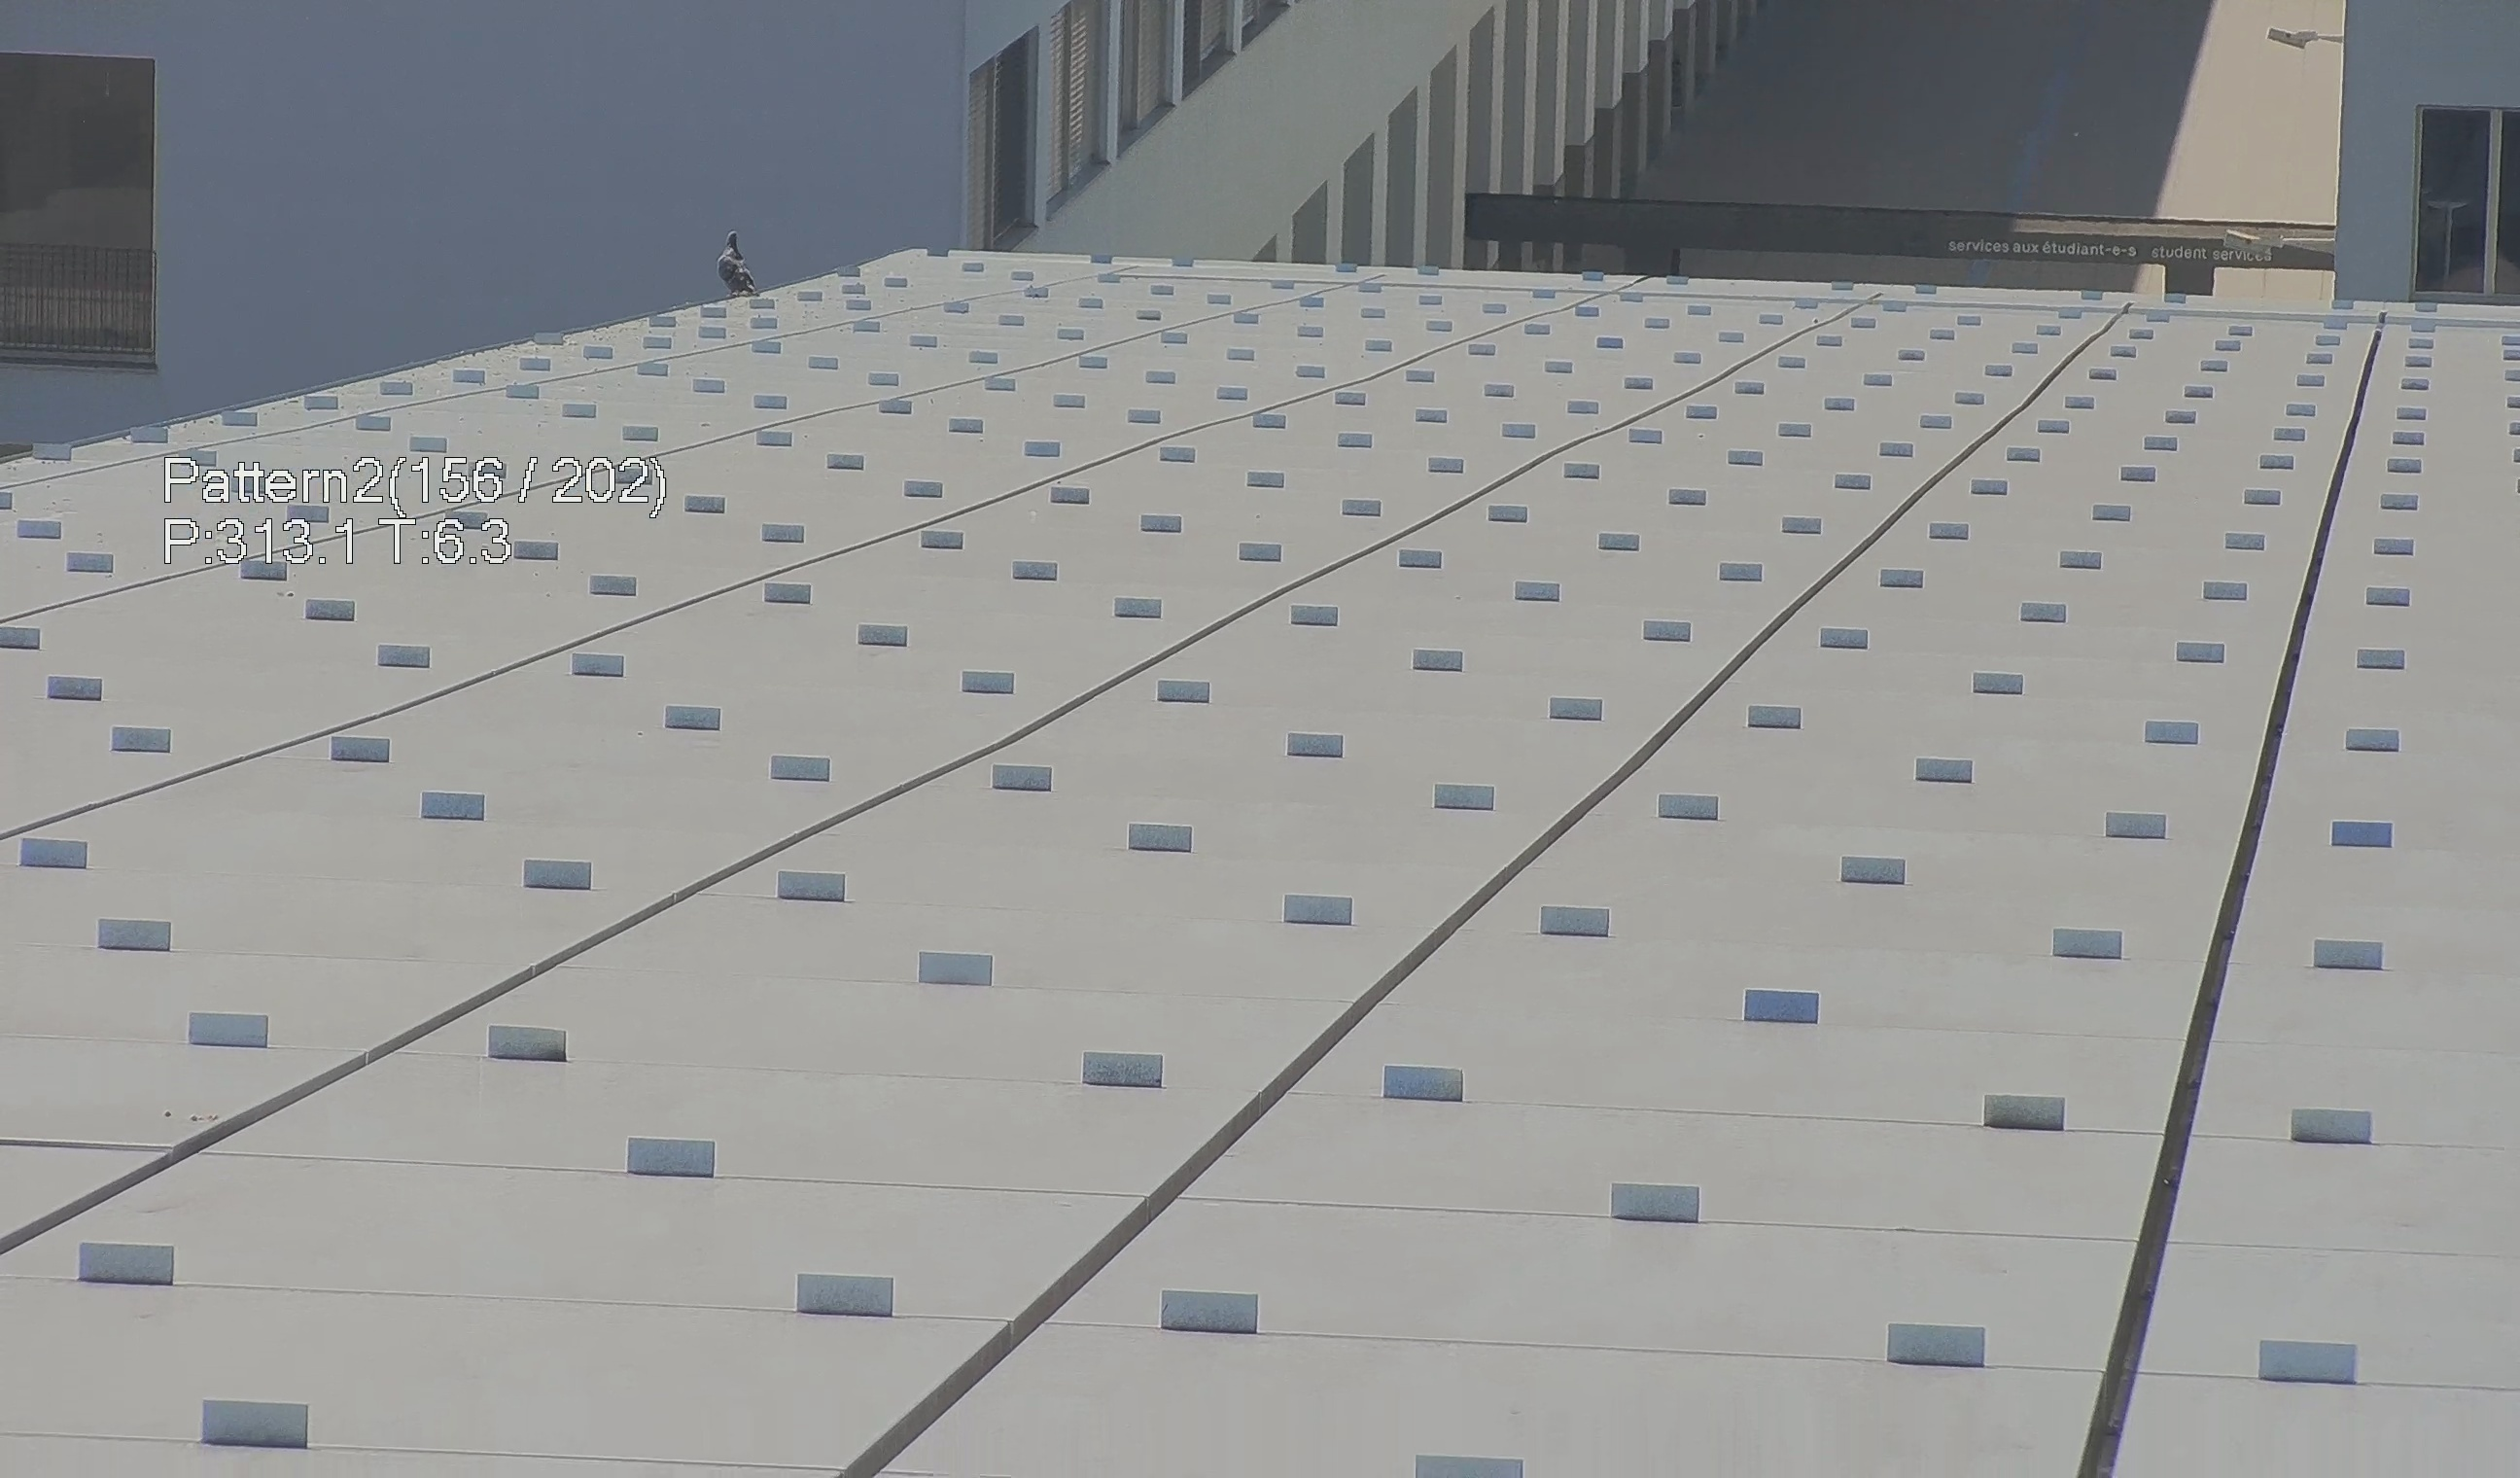Pigeon: (693, 222, 765, 313)
